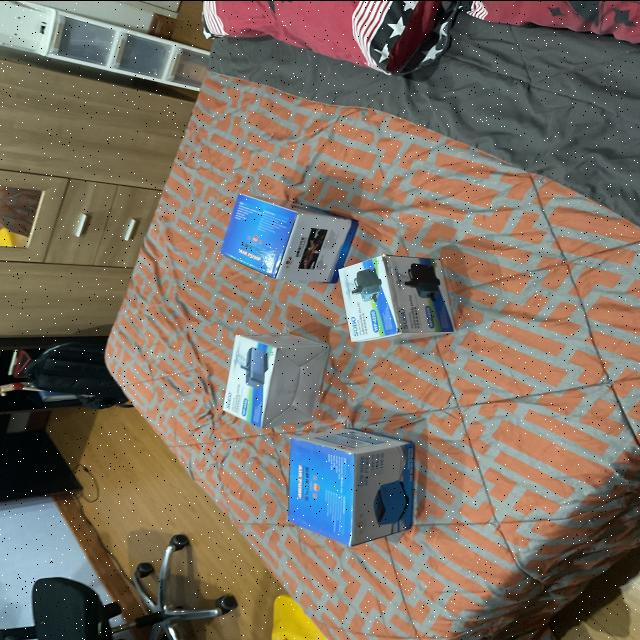SOBO_WP_4200: (208, 321, 334, 433), (338, 240, 464, 348)
YAMANO_LPP_20: (269, 421, 423, 547), (200, 185, 358, 292)
